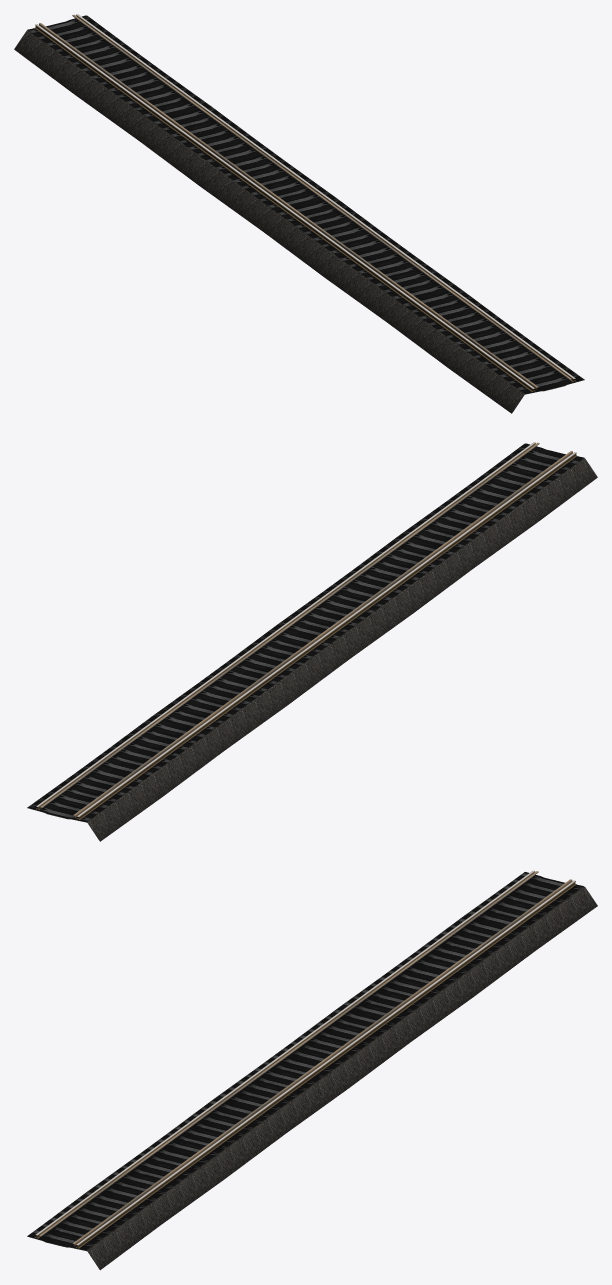
Rendered from KH_1RAIL00_100.glb.
The picture shows the model from 3 angles, top to bottom: view 1: azimuth 30°, elevation 25°; view 2: azimuth 150°, elevation 25°; view 3: azimuth 330°, elevation 25°; orthographic projection.
Visible parts, largest first — view 1: R000, R000_RG_R, R000_RG_L; view 2: R000, R000_RG_R, R000_RG_L; view 3: R000, R000_RG_L, R000_RG_R.
Boxes of the visible parts, x1=… form: R000: x1=14, y1=14, x2=584, y2=413; R000_RG_R: x1=39, y1=23, x2=538, y2=389; R000_RG_L: x1=72, y1=14, x2=571, y2=379; R000: x1=27, y1=442, x2=597, y2=841; R000_RG_R: x1=73, y1=451, x2=572, y2=817; R000_RG_L: x1=39, y1=442, x2=539, y2=809; R000: x1=27, y1=870, x2=597, y2=1270; R000_RG_L: x1=73, y1=879, x2=572, y2=1246; R000_RG_R: x1=39, y1=871, x2=538, y2=1236.
Bounding box in the file's own units: 10.09 × 2.22 × 100.
6 materials, 5 textured.
